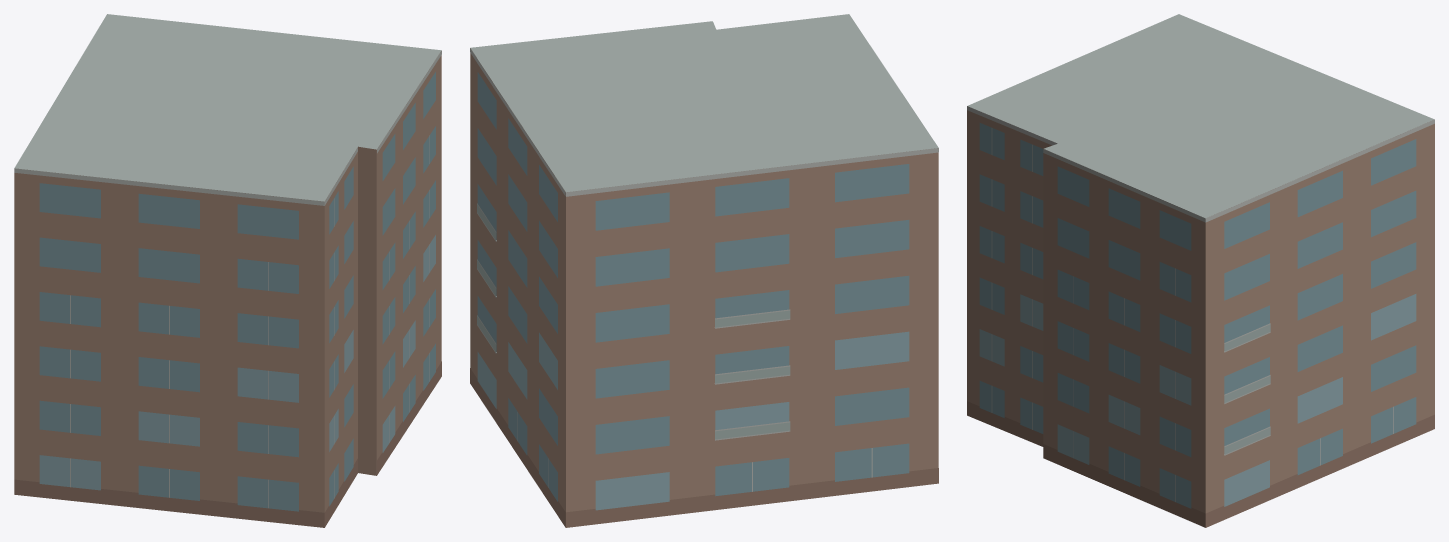
Rendered from survey-upis-32462536.glb.
3 renders of one model, left to right at view 1: azimuth 30°, elevation 25°; view 2: azimuth 150°, elevation 25°; view 3: azimuth 270°, elevation 25°, orthographic. The views are drawn at different scales.
Parts seen in each view (by area): view 1: survey-upis-32462536.tmp; view 2: survey-upis-32462536.tmp; view 3: survey-upis-32462536.tmp.
Part boxes in pixels (bbox=[...]): survey-upis-32462536.tmp: bbox=[14, 14, 441, 527]; survey-upis-32462536.tmp: bbox=[470, 14, 938, 527]; survey-upis-32462536.tmp: bbox=[967, 14, 1434, 527].
Size of the model in its own units: 25.5 by 18 by 24.66.
